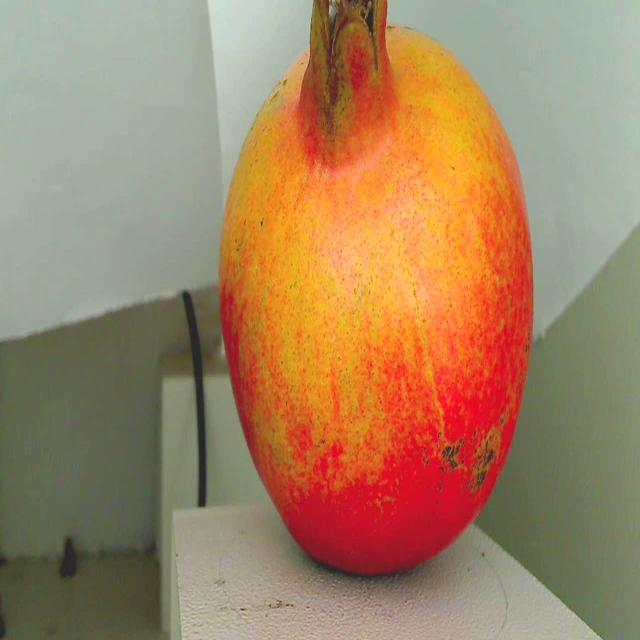pomegranate: (216, 0, 542, 607)
